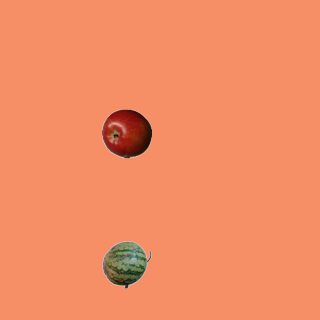Apple Braeburn: (101, 108, 151, 158)
Watermelon: (101, 239, 151, 289)
